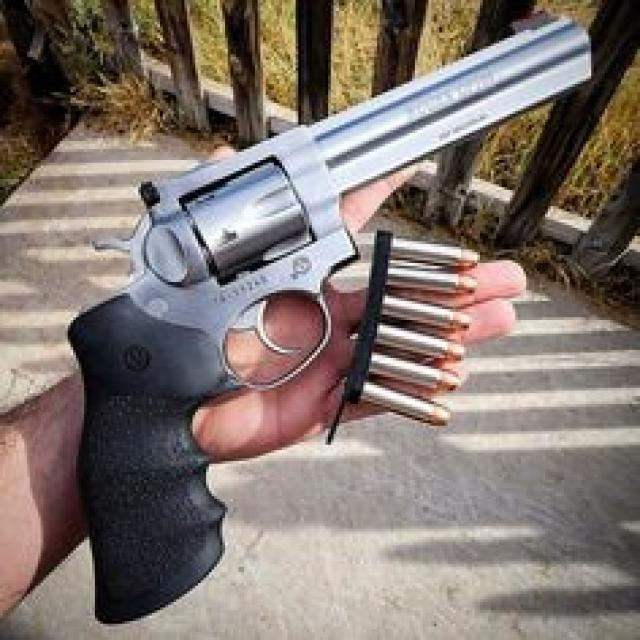revolver: (46, 6, 619, 634)
